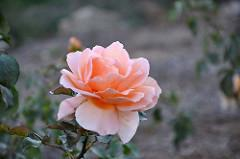Rose: (48, 45, 165, 143)
